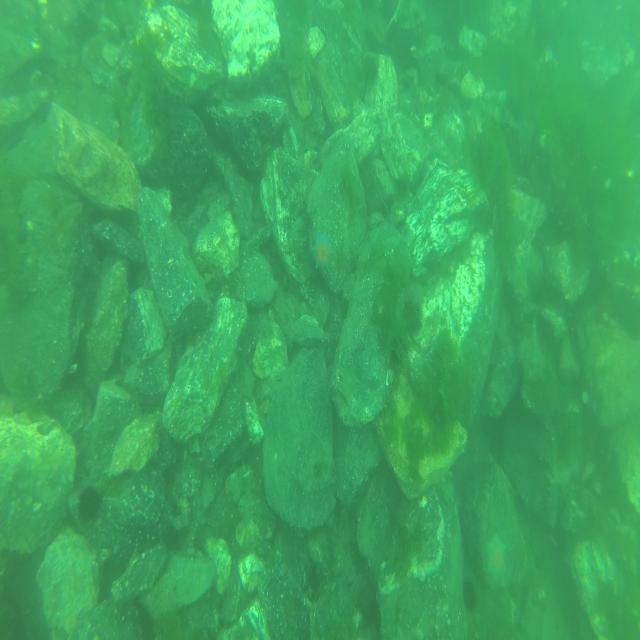echinus: (78, 484, 101, 521), (462, 575, 478, 611)
starfish: (486, 533, 508, 579), (312, 231, 334, 275)
